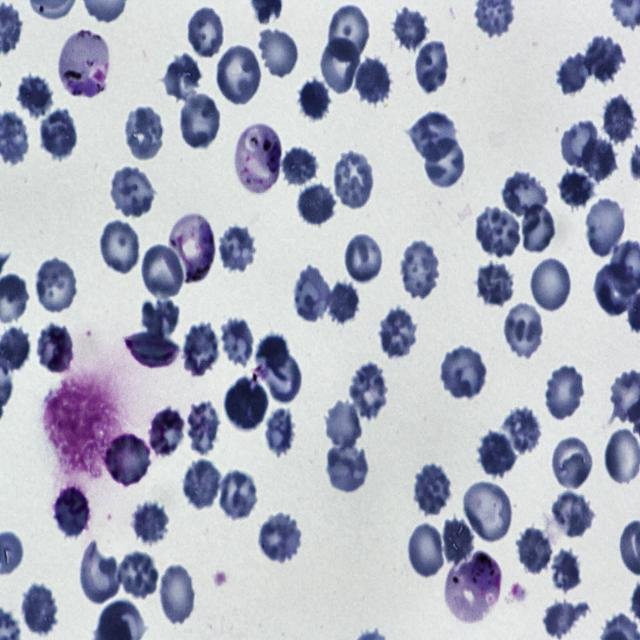difficult: (446, 551, 502, 624)
red blood cell: (462, 480, 516, 544), (215, 44, 263, 106), (77, 537, 121, 604), (327, 2, 372, 64), (178, 90, 222, 152), (398, 240, 442, 302), (332, 149, 376, 210), (585, 196, 628, 258), (440, 345, 488, 400), (140, 242, 186, 299), (34, 257, 79, 315), (543, 362, 587, 421), (108, 164, 156, 218), (105, 432, 152, 487), (550, 434, 595, 491), (98, 218, 142, 276), (502, 301, 546, 359), (408, 111, 458, 162), (500, 170, 548, 223), (422, 135, 468, 190), (473, 206, 522, 257), (256, 512, 304, 564), (530, 255, 573, 312), (348, 362, 390, 420), (159, 563, 197, 627), (326, 440, 371, 494), (321, 36, 362, 95), (123, 105, 166, 161), (145, 403, 187, 460), (406, 522, 447, 580), (226, 375, 268, 431), (378, 306, 421, 360), (292, 266, 332, 324), (550, 489, 596, 539), (184, 395, 221, 457), (258, 26, 300, 80), (412, 39, 452, 95), (596, 262, 636, 318), (344, 232, 386, 285), (217, 223, 258, 277), (186, 4, 226, 59), (123, 331, 180, 369), (218, 469, 260, 520), (218, 314, 256, 370), (118, 551, 161, 600), (182, 459, 222, 511), (55, 484, 95, 536), (474, 255, 513, 308), (39, 106, 77, 160), (519, 201, 556, 256), (501, 407, 543, 455), (323, 399, 361, 452), (412, 465, 453, 514), (585, 32, 625, 82), (600, 92, 637, 146), (390, 4, 430, 53), (181, 323, 217, 377), (354, 55, 392, 106), (264, 352, 301, 404), (477, 431, 517, 479), (19, 583, 56, 634), (161, 52, 202, 98), (561, 120, 599, 168), (297, 182, 337, 227), (38, 323, 73, 374), (582, 134, 618, 182), (556, 48, 592, 95), (282, 143, 319, 188), (516, 526, 552, 572), (441, 516, 474, 566), (140, 297, 181, 337), (297, 76, 332, 122), (557, 170, 597, 208), (132, 501, 168, 543), (18, 73, 52, 116), (265, 407, 294, 456), (550, 548, 582, 592), (543, 597, 577, 638), (327, 280, 358, 322), (257, 332, 290, 369)
trophozoite: (235, 121, 283, 196), (59, 28, 110, 98), (170, 212, 216, 286)
